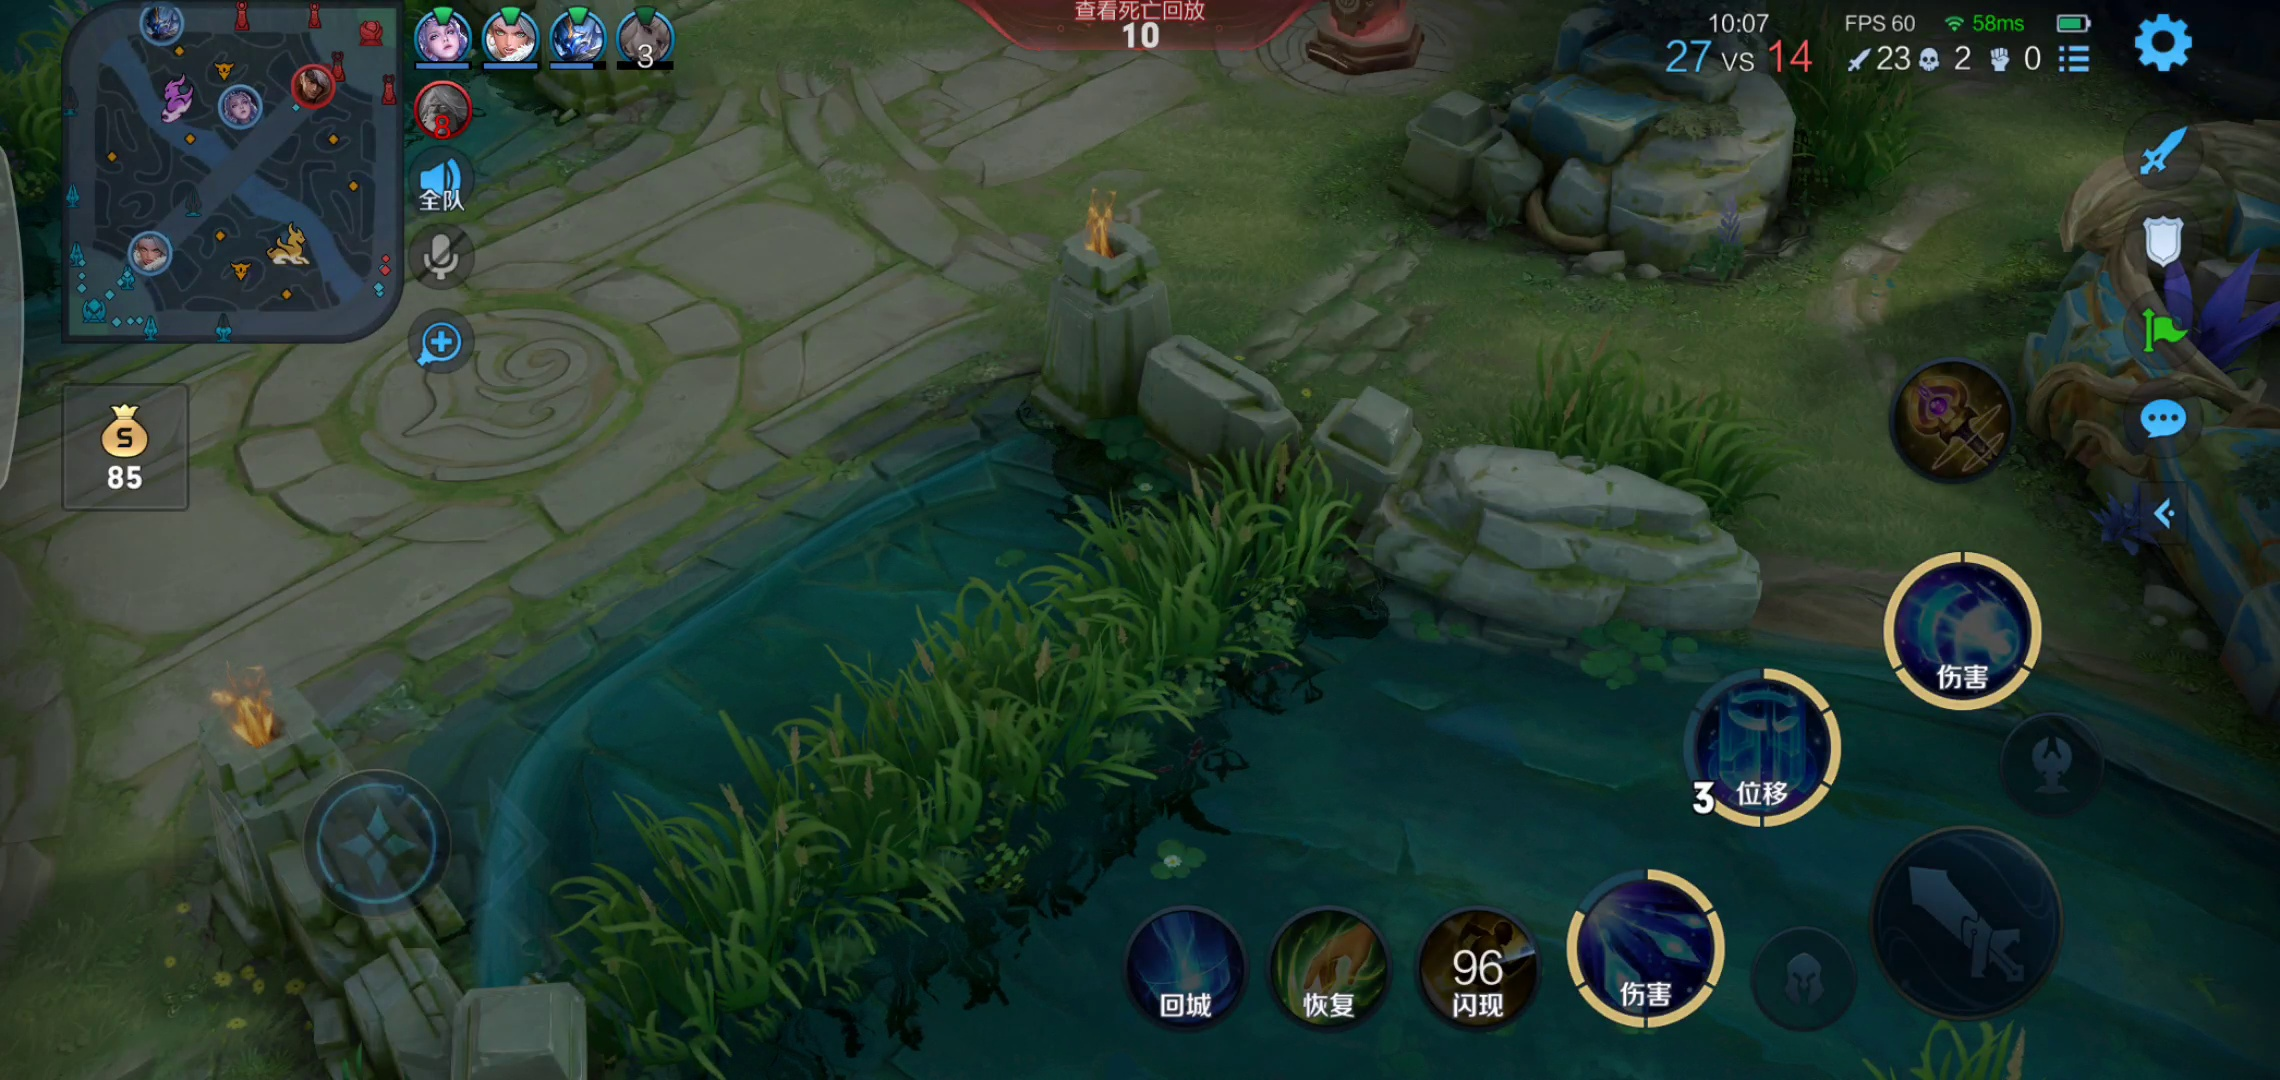grass: (566, 419, 1362, 1049), (1501, 356, 1789, 536), (1738, 10, 1918, 222), (9, 17, 108, 233), (1895, 1028, 2007, 1080)
